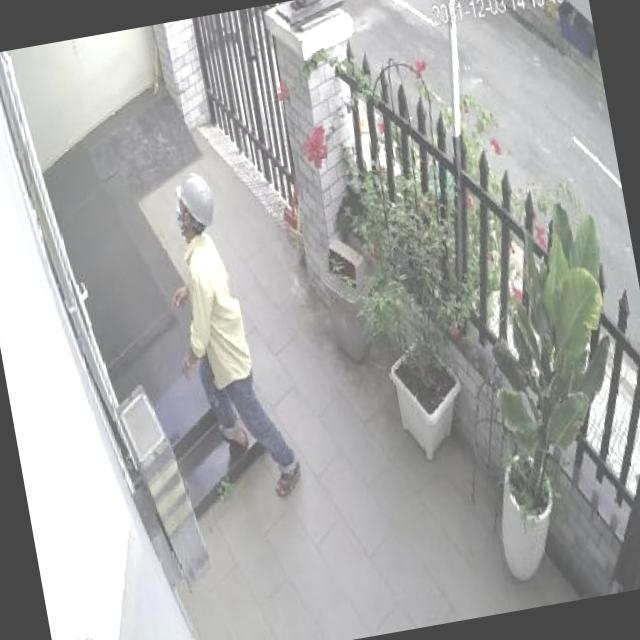Person: (148, 162, 304, 512)
